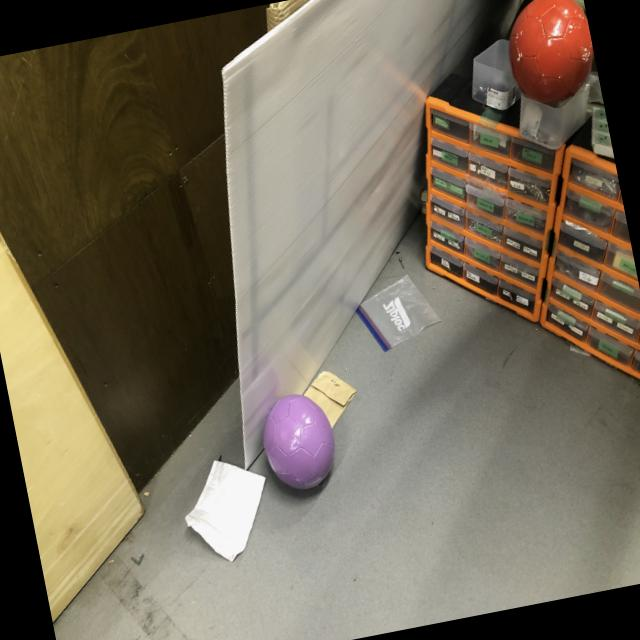purple_ball: (254, 388, 344, 498)
